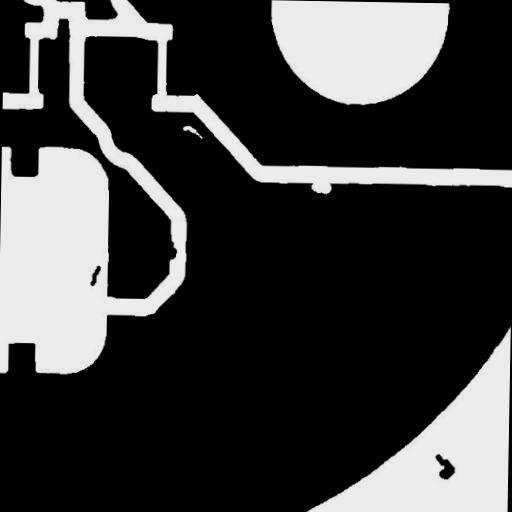copper: (428, 446, 462, 487), (82, 258, 108, 293)
mousebite: (304, 174, 338, 202)
pin-hole: (175, 118, 210, 146)
spur: (156, 232, 184, 267)
